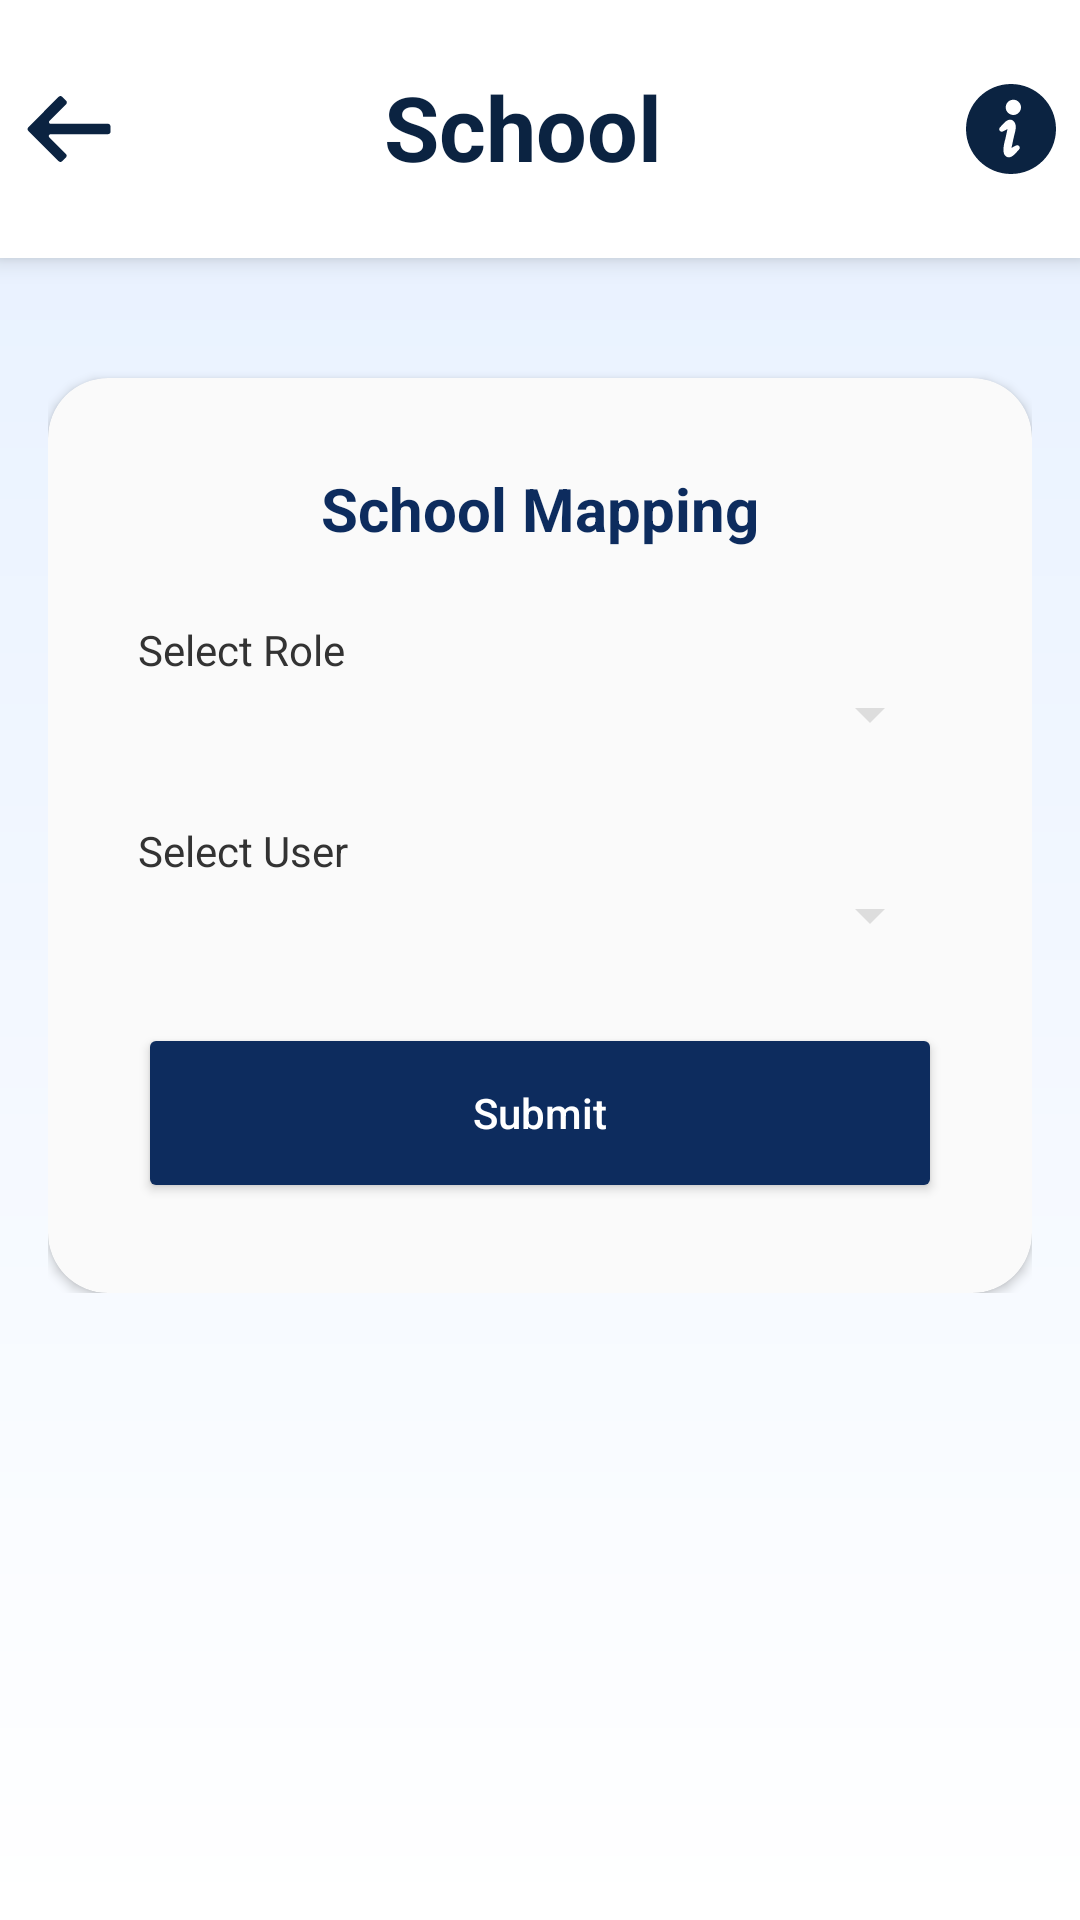

Icons on this 1080*1920 Android screen, each with its box as bbox=[x1, y1, x2, y2]:
back: bbox=[27, 96, 111, 162]
Information: bbox=[966, 84, 1056, 174]
